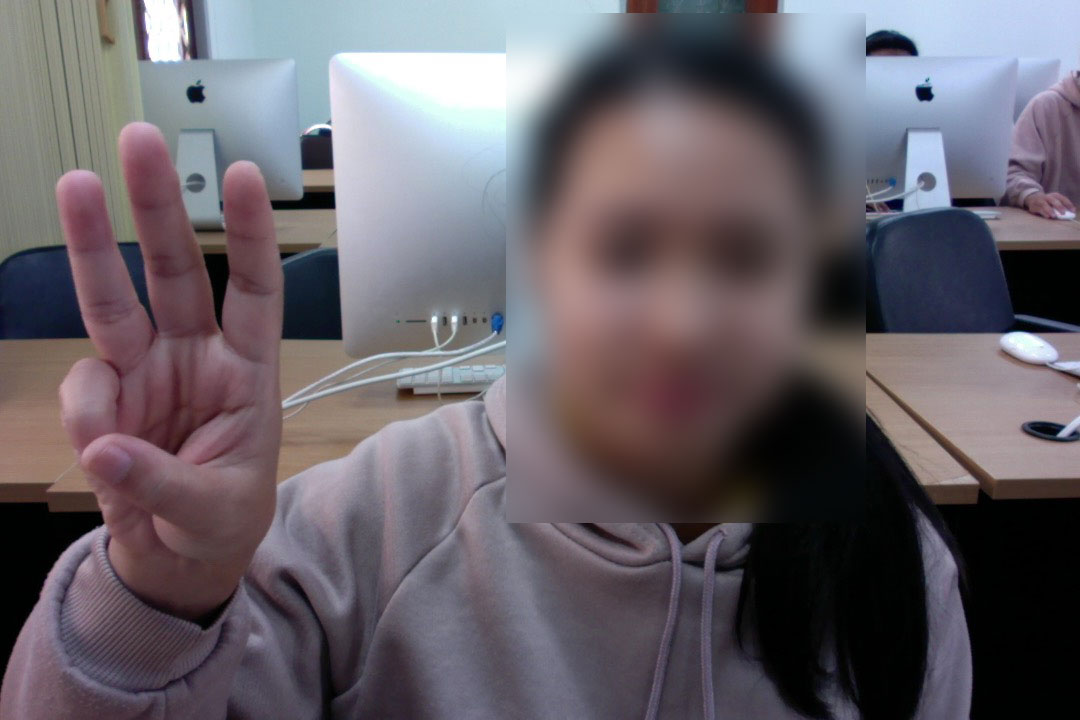wor: (26, 113, 317, 587)
